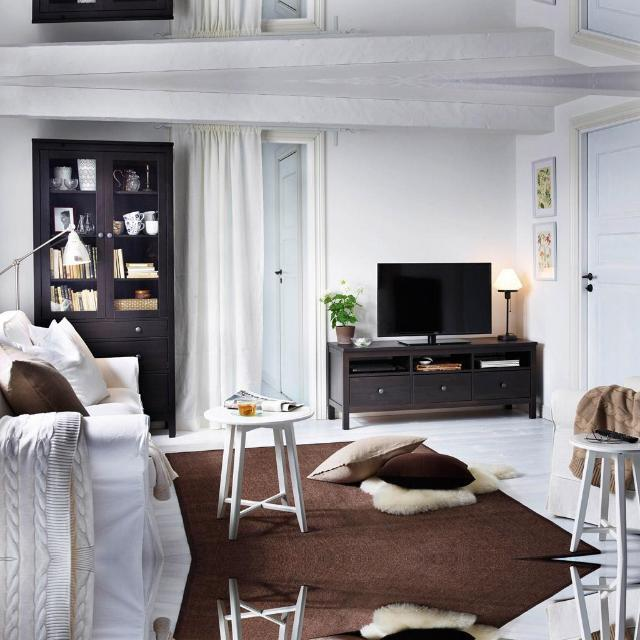couch: (0, 310, 176, 557), (0, 559, 175, 640)
lamp: (0, 221, 90, 308), (495, 268, 522, 339)
pillow: (22, 318, 109, 405), (0, 347, 89, 415), (308, 435, 426, 482), (376, 454, 475, 488), (380, 628, 475, 640)
plant: (320, 279, 364, 343)
rug: (168, 441, 599, 558), (175, 559, 599, 640)
shelf: (32, 138, 175, 434), (328, 336, 536, 428)
stool: (570, 432, 640, 558), (570, 559, 628, 640)
wall-art: (171, 122, 264, 429), (531, 156, 556, 217), (532, 222, 556, 280)
